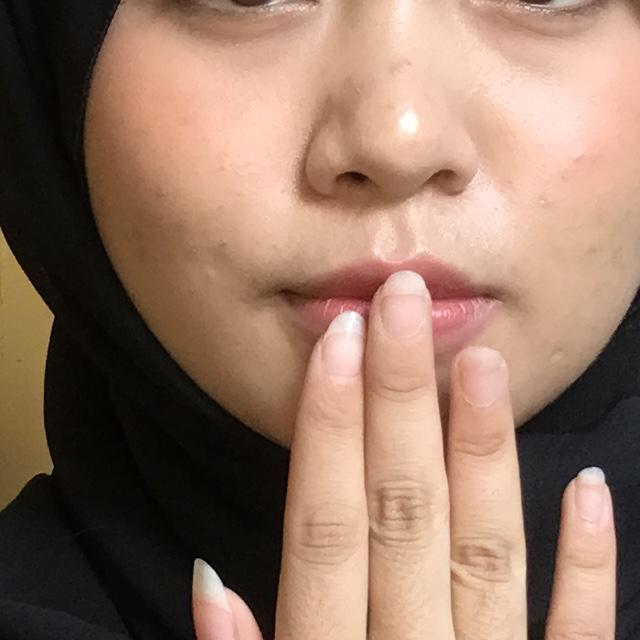ganteng: (90, 236, 640, 640)
